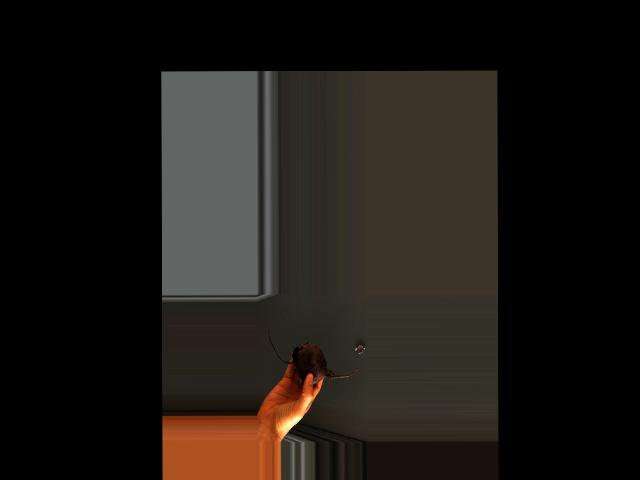beet: (267, 327, 358, 384)
